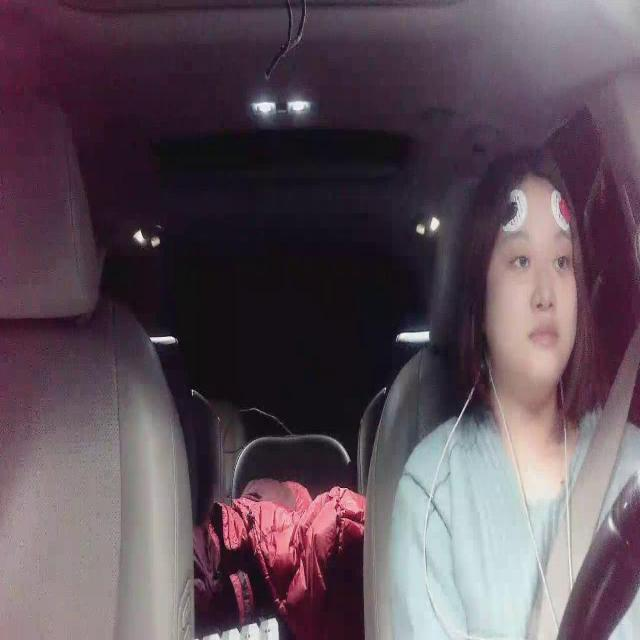Attentive: (470, 144, 586, 400)
